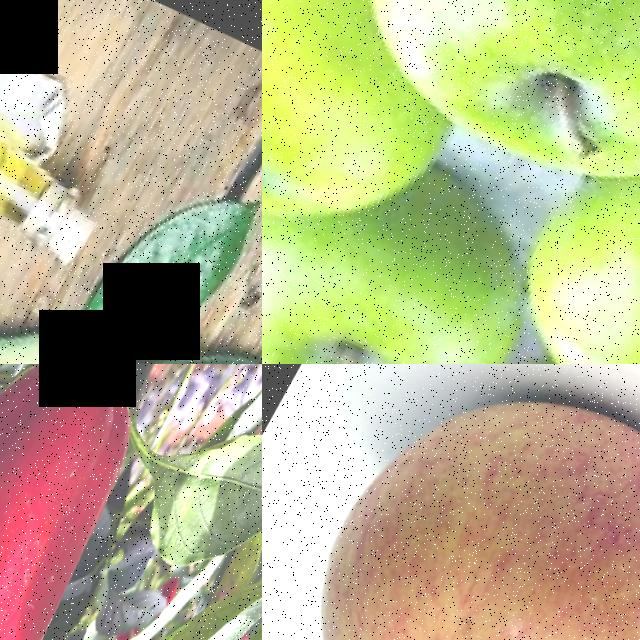apple: (262, 364, 640, 640), (286, 0, 640, 248), (262, 1, 466, 273), (262, 209, 549, 364), (482, 156, 640, 364)
avocado: (0, 197, 130, 364)
bell pepper: (0, 364, 183, 640)
